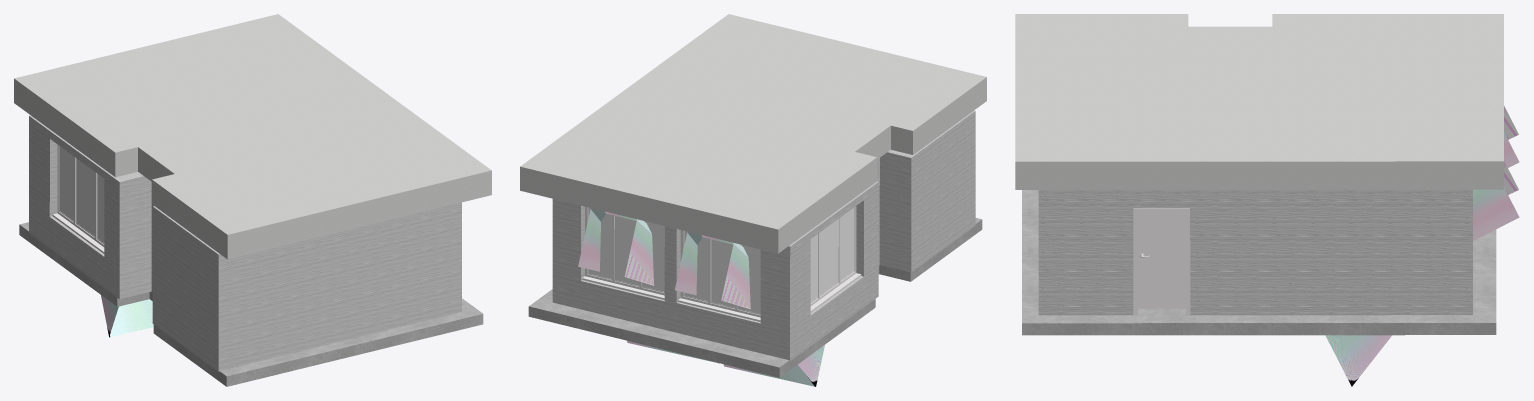
The model's file is FloorPlan214_physics.fbx.
3 renders of one model, left to right at view 1: azimuth 30°, elevation 25°; view 2: azimuth 150°, elevation 25°; view 3: azimuth 270°, elevation 25°, orthographic. The views are drawn at different scales.
Parts seen in each view (by area): view 1: FP214:Ceiling.001, FP214:Room.011, FP214:Floor, FP214:polySurface4, FP214:Baseboard.012, FP214:polySurface10; view 2: FP214:Ceiling.001, FP214:Room.011, FP214:Floor, FP214:Baseboard.012, FP214:polySurface8, FP214:polySurface1, FP214:polySurface4, FP214:polySurface7, FP214:polySurface10, FP214:polySurface14; view 3: FP214:Ceiling.001, FP214:Room.011, FP214:Floor, FP214:Door.006, FP214:Baseboard.012, FP214:DoorFrame.004.
Part boxes in pixels (box(x1,y1,x2,y2)): FP214:Ceiling.001: box(14, 14, 491, 259); FP214:Room.011: box(29, 115, 461, 371); FP214:Floor: box(19, 222, 483, 386); FP214:polySurface4: box(60, 146, 104, 242); FP214:Baseboard.012: box(101, 295, 153, 337); FP214:polySurface10: box(52, 145, 104, 253); FP214:Ceiling.001: box(520, 14, 986, 253); FP214:Room.011: box(552, 110, 975, 360); FP214:Floor: box(528, 218, 982, 377); FP214:Baseboard.012: box(578, 208, 824, 386); FP214:polySurface8: box(588, 207, 664, 291); FP214:polySurface1: box(684, 231, 760, 313); FP214:polySurface4: box(810, 208, 853, 302); FP214:polySurface7: box(678, 230, 760, 321); FP214:polySurface10: box(810, 206, 861, 312); FP214:polySurface14: box(582, 206, 664, 299); FP214:Ceiling.001: box(1015, 14, 1503, 189); FP214:Room.011: box(1038, 189, 1472, 315); FP214:Floor: box(1022, 190, 1496, 335); FP214:Door.006: box(1138, 212, 1185, 308); FP214:Baseboard.012: box(1325, 106, 1519, 386); FP214:DoorFrame.004: box(1133, 208, 1190, 315).
Bounding box in the file's own units: 615 × 486 × 889.
